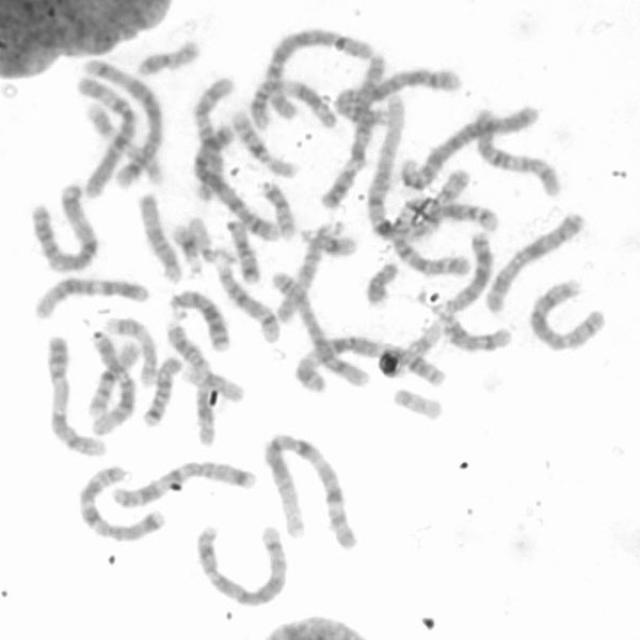A1: (363, 92, 468, 245), (255, 426, 359, 550)
A2: (385, 180, 481, 278), (336, 62, 476, 123)
A3: (291, 330, 451, 394), (27, 176, 102, 273)
B4: (394, 98, 544, 192), (188, 116, 282, 243)
B5: (74, 56, 168, 190), (191, 518, 291, 609)
C10: (468, 100, 566, 198), (187, 71, 236, 180)
C11: (161, 316, 220, 448), (248, 72, 340, 131)
C12: (28, 271, 151, 320), (85, 331, 141, 437)
C6: (257, 23, 374, 124), (65, 70, 134, 195)
C7: (70, 459, 168, 545), (105, 454, 256, 509)
C8: (267, 269, 372, 387), (525, 272, 610, 354)
C9: (315, 50, 389, 212), (40, 330, 106, 460)
D13: (433, 226, 494, 316), (163, 285, 233, 354)
D14: (208, 250, 282, 344), (427, 301, 512, 354)
D15: (271, 213, 347, 327), (133, 185, 186, 284)
E16: (225, 104, 300, 179), (83, 336, 142, 423)
E17: (81, 97, 166, 187), (101, 312, 160, 387)
E18: (138, 352, 184, 427), (221, 215, 262, 285)
F19: (387, 314, 445, 379), (176, 357, 246, 404)
F20: (132, 32, 204, 76), (254, 177, 297, 241)
G21: (167, 217, 205, 277), (298, 222, 357, 258)
G22: (389, 383, 446, 422), (182, 212, 218, 266)
X: (482, 205, 589, 314)
Y: (361, 256, 401, 306)
